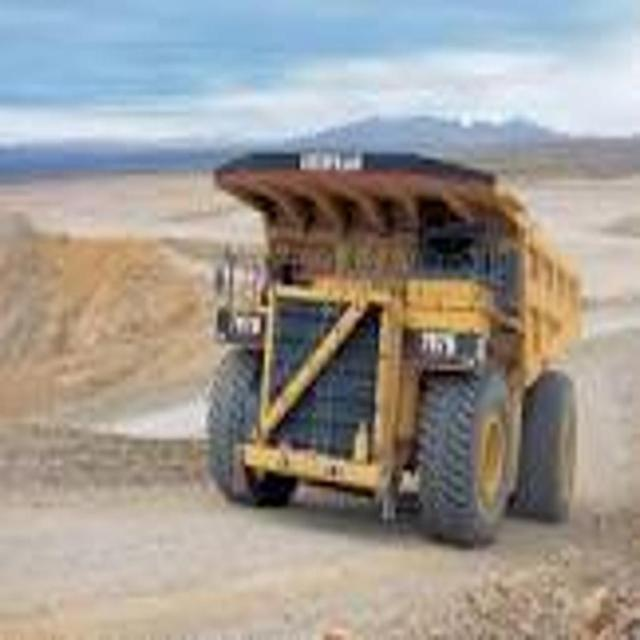dump_truck: (208, 131, 586, 556)
